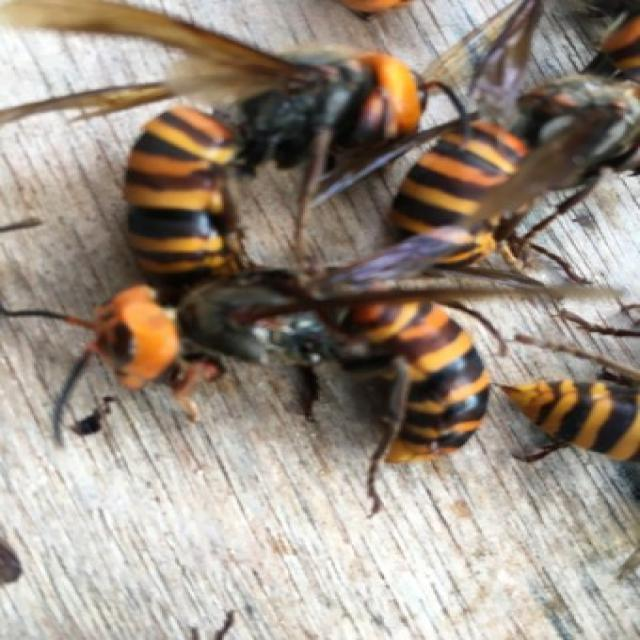Wasp: (9, 5, 427, 272), (32, 250, 494, 479)
